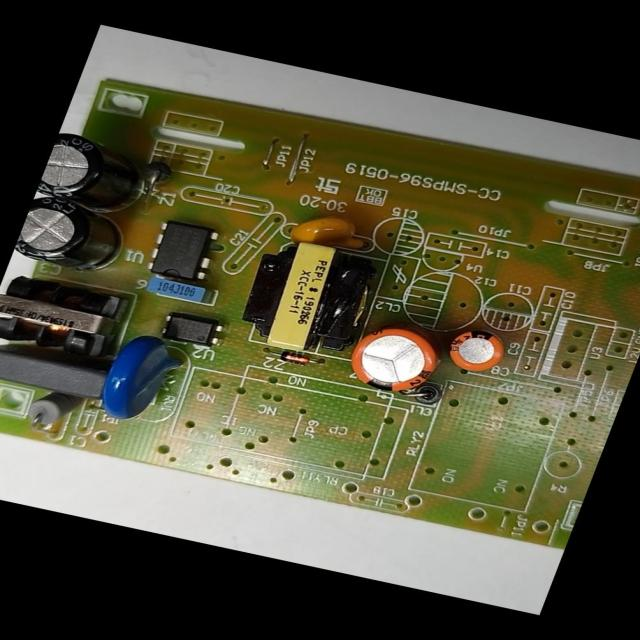Cap1: (339, 321, 450, 401)
Cap2: (440, 324, 512, 377)
Cap3: (10, 191, 139, 281)
Cap4: (35, 130, 154, 216)
MOSFET: (138, 218, 222, 288)
Mov: (90, 328, 194, 431)
Resistor: (21, 388, 90, 434)
Transformer: (227, 230, 382, 361), (0, 266, 129, 363)
